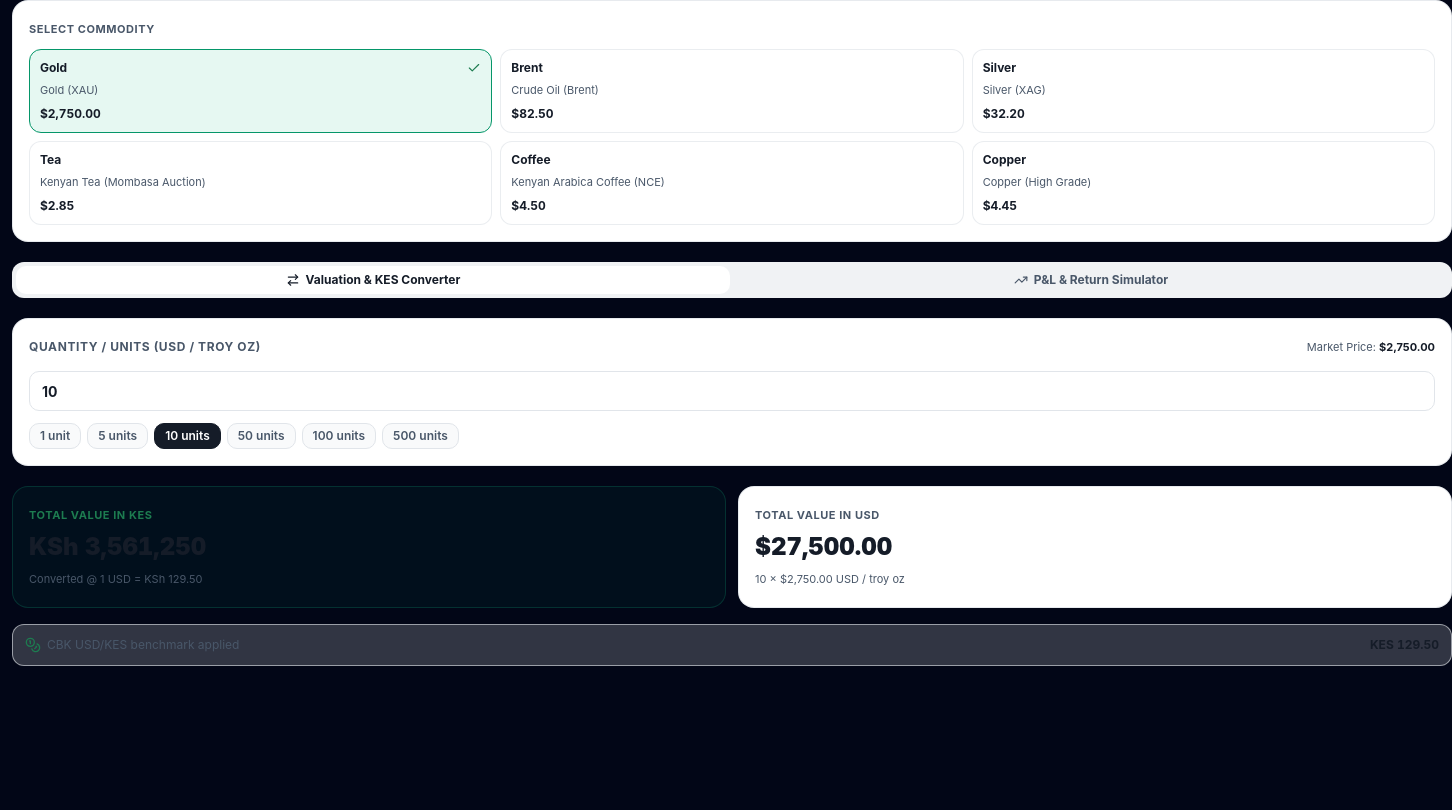
Test: CommodityCalculator › switches to P&L & Return Simulator mode
Step 1. Click the button "P&L & Return Simulator" → [1091, 280], box [734,266,1448,294]
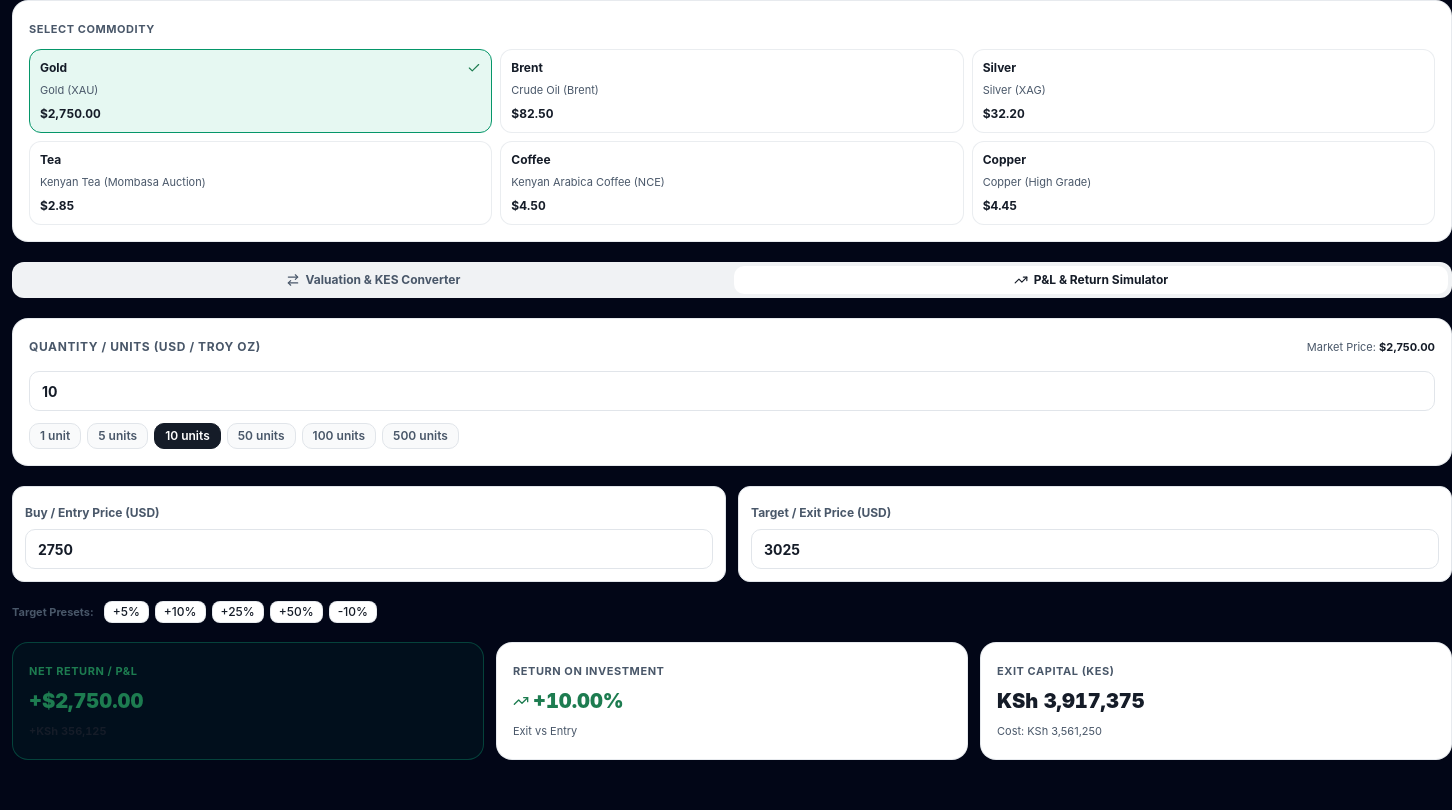
Check: the text "Buy / Entry Price (USD)" is shown, box [25,505,160,520]
Check: the text "Target / Exit Price (USD)" is shown, box [751,505,891,520]
Check: the text "Net Return / P&L" is shown, box [29,664,138,678]
